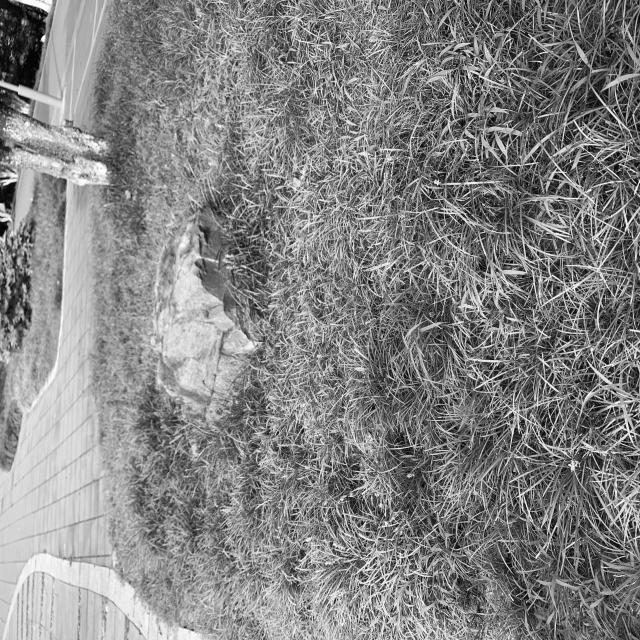Stone: (151, 209, 254, 423)
